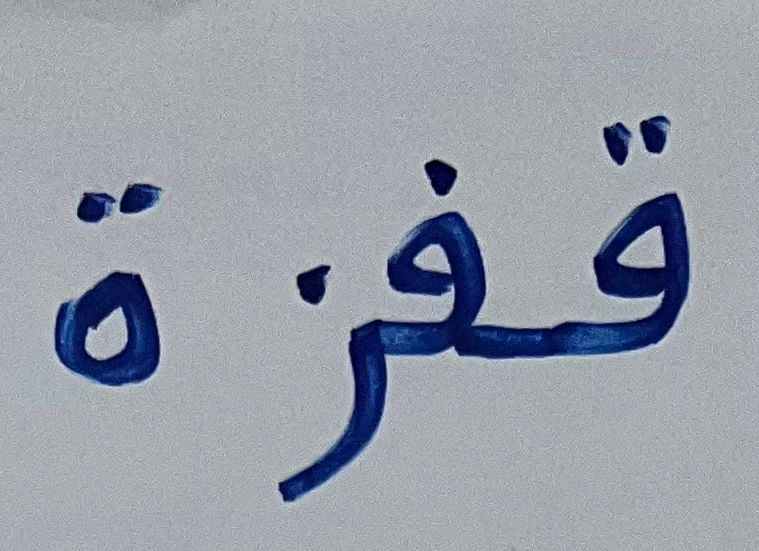noon: (243, 257, 383, 506)
qaf: (511, 99, 713, 373)
teh_marbota: (38, 162, 195, 419), (385, 143, 509, 378)
